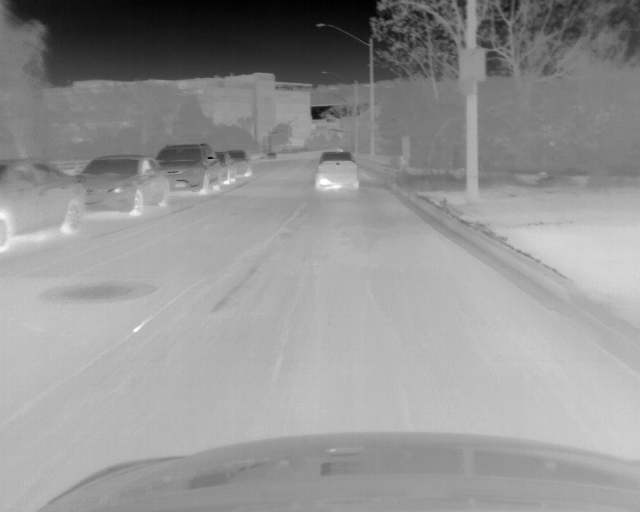car: (1, 156, 82, 252), (82, 154, 172, 216), (158, 143, 222, 196), (314, 150, 360, 191), (214, 151, 236, 185), (229, 150, 253, 177)
